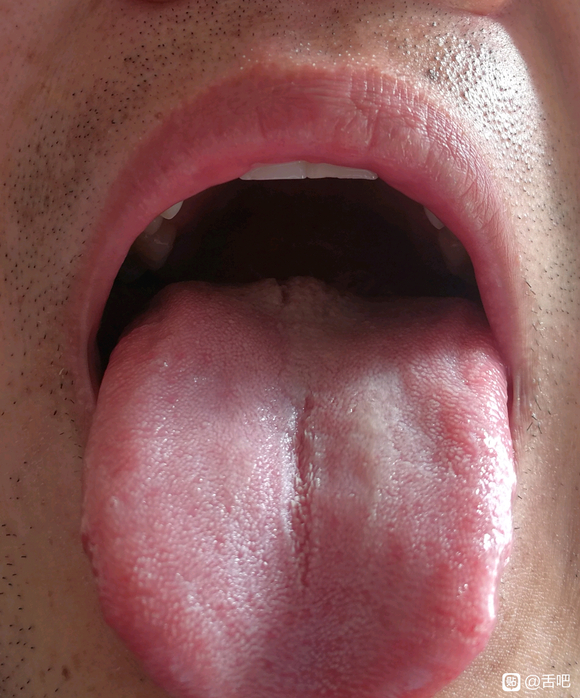baitaishe: (82, 274, 514, 698)
chihenshe: (467, 471, 513, 666)
hongshe: (82, 274, 514, 698)
liewenshe: (281, 388, 325, 591)
